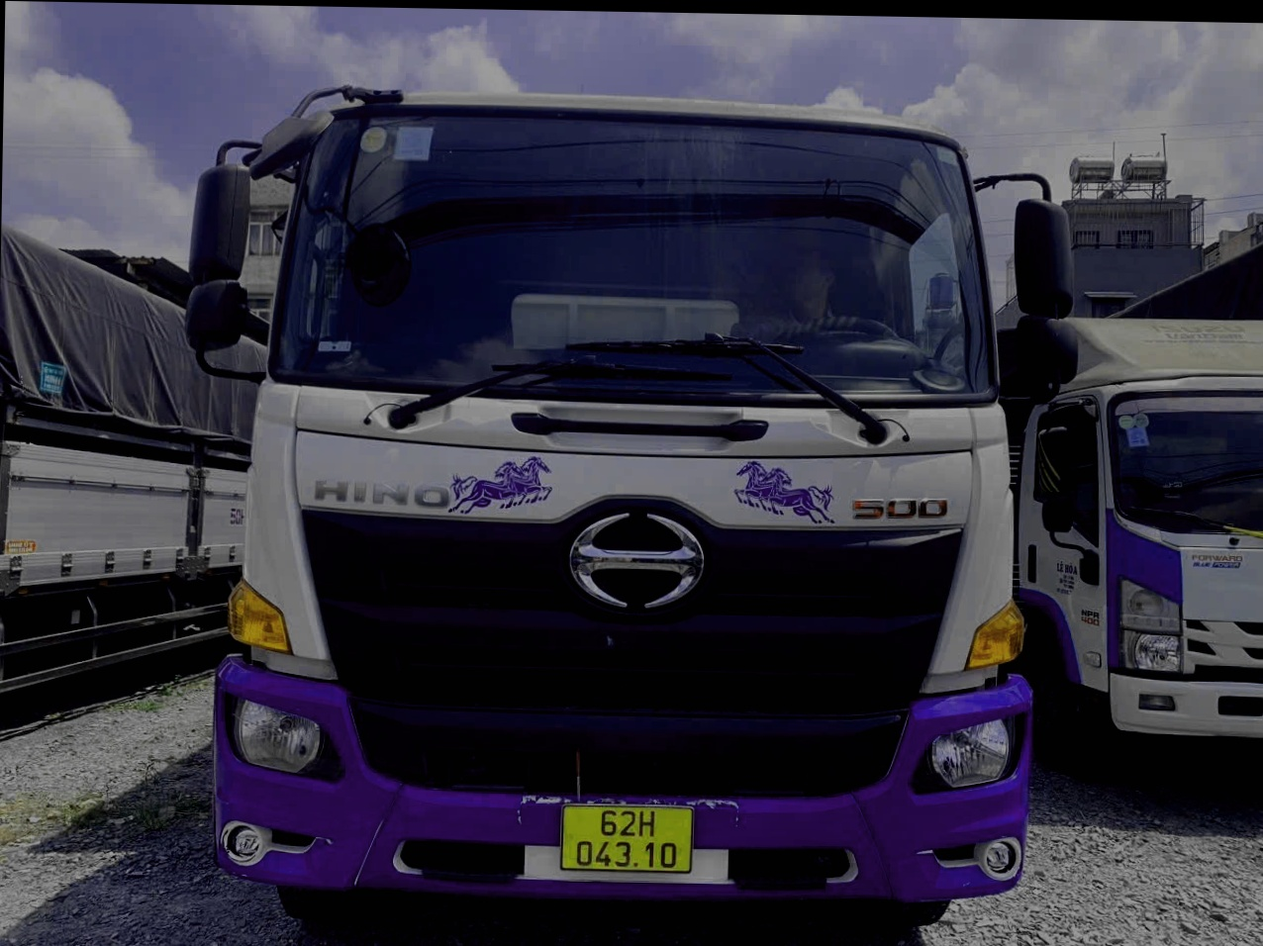Bien-so: (554, 755, 683, 842)
